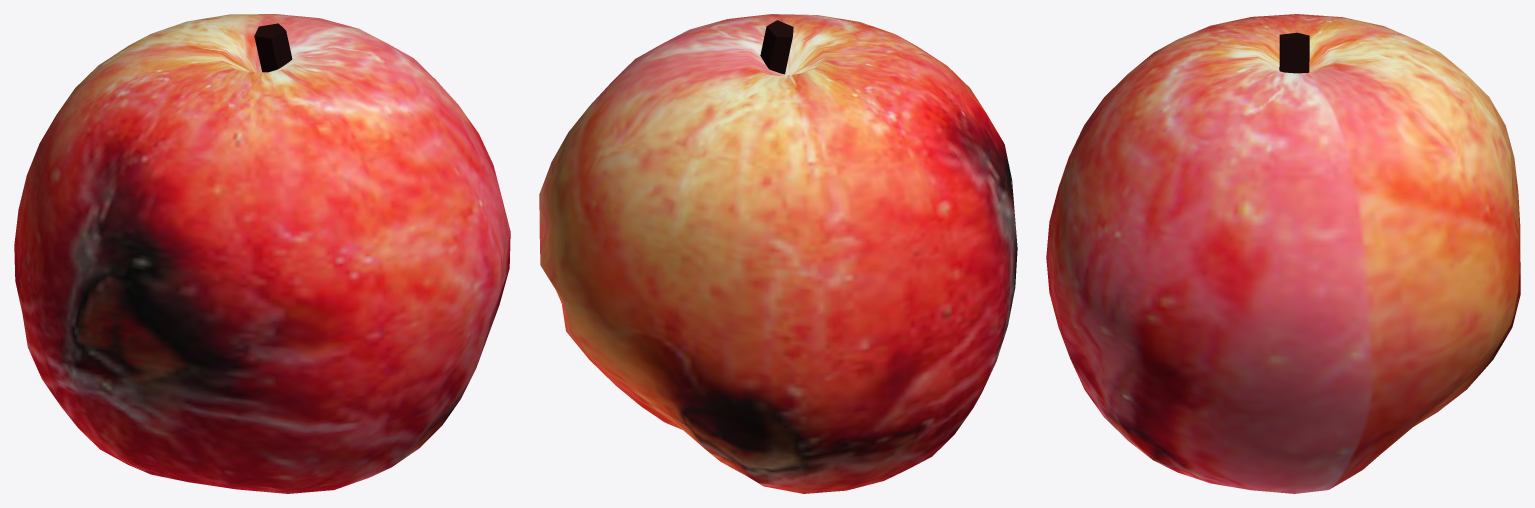
File: apple 1.fbx
The picture shows the model from 3 angles, left to right: view 1: azimuth 30°, elevation 25°; view 2: azimuth 150°, elevation 25°; view 3: azimuth 270°, elevation 25°; orthographic projection.
Parts seen in each view (by area): view 1: pSphere1, pCylinder1; view 2: pSphere1, pCylinder1; view 3: pSphere1, pCylinder1.
Boxes of the visible parts, bbox=[...] form: pSphere1: bbox=[14, 14, 510, 493]; pCylinder1: bbox=[254, 23, 292, 72]; pSphere1: bbox=[539, 14, 1017, 493]; pCylinder1: bbox=[760, 20, 793, 74]; pSphere1: bbox=[1046, 14, 1520, 493]; pCylinder1: bbox=[1279, 32, 1309, 73].
Size of the model in its own units: 14.31 by 13.2 by 13.63.
2 materials, 1 textured.
